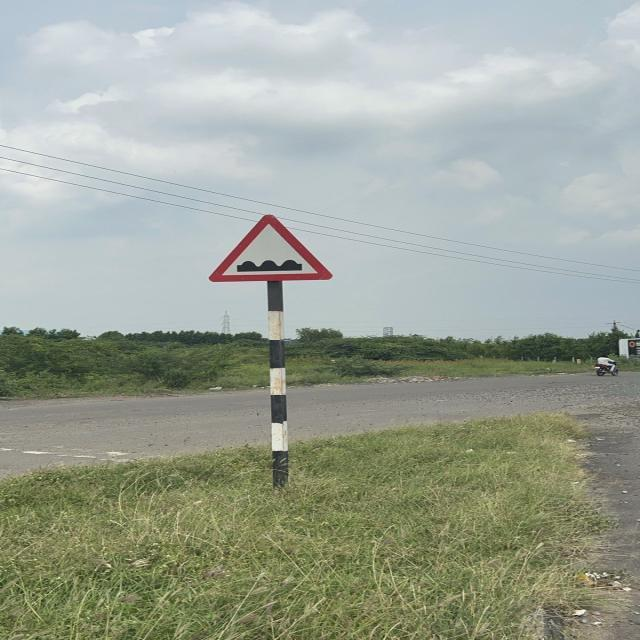hump or rough road: (207, 212, 333, 284)
